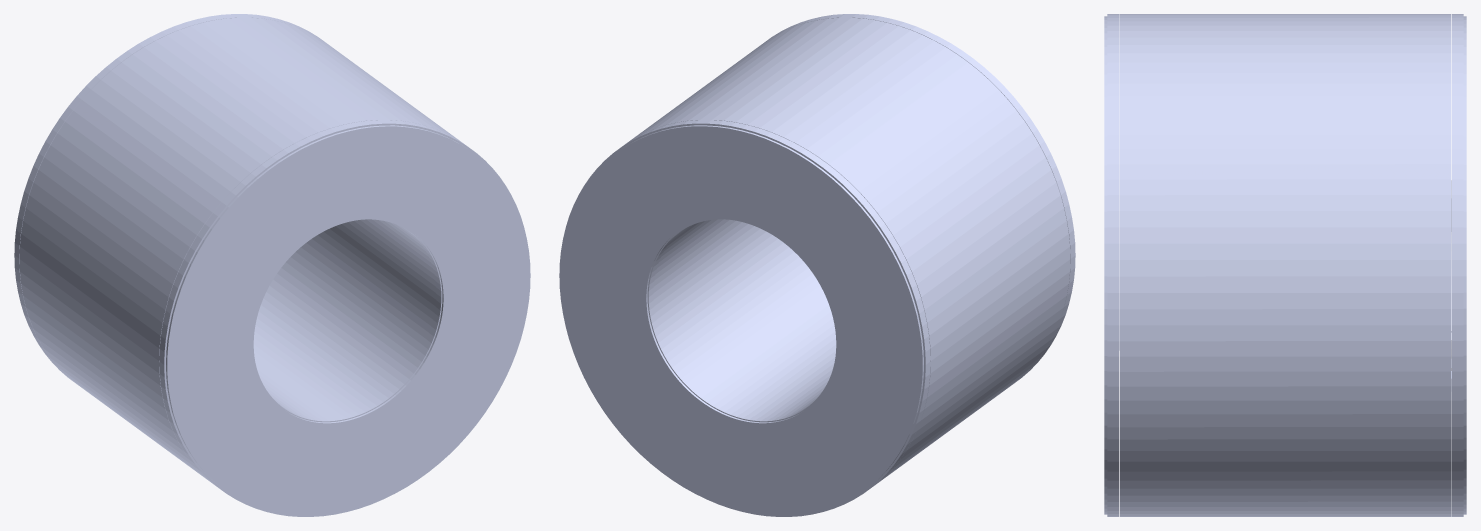
File: TRT-BAR.glb
3 views of the same model, side by side, from view 1: azimuth 30°, elevation 25°; view 2: azimuth 150°, elevation 25°; view 3: azimuth 270°, elevation 25° (orthographic). The views are drawn at different scales.
Parts seen in each view (by area): view 1: null; view 2: null; view 3: null.
Boxes of the visible parts, x1,y1,x2,y2 form: null: (14,14,530,516); null: (559,14,1075,516); null: (1104,14,1466,516).
Size of the model in its own units: 2.16 by 2.16 by 1.56.
